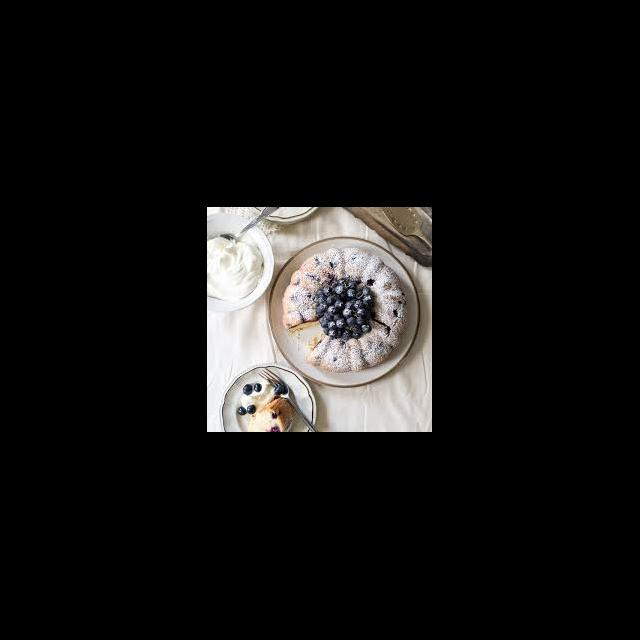grape: (313, 274, 377, 344)
